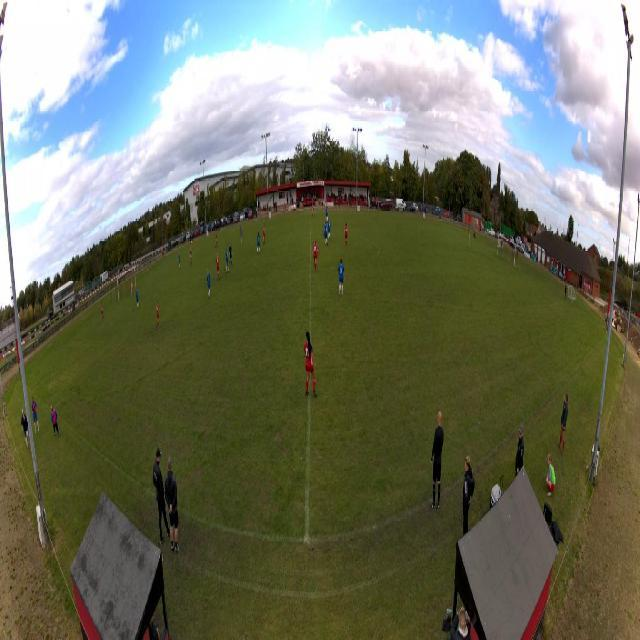ball: (132, 284, 133, 288)
player: (304, 330, 318, 399), (337, 257, 345, 296), (311, 239, 319, 274), (206, 268, 212, 302), (215, 252, 220, 281), (225, 247, 230, 275), (324, 221, 329, 248), (228, 242, 233, 268), (156, 299, 160, 330), (344, 222, 348, 248), (256, 231, 260, 257), (135, 287, 139, 311), (327, 218, 331, 239), (262, 224, 266, 245), (101, 301, 105, 322), (189, 247, 193, 267), (177, 251, 181, 269), (130, 280, 134, 298), (325, 206, 329, 223), (214, 233, 218, 250), (240, 225, 243, 245), (468, 232, 471, 252), (312, 203, 315, 219)
